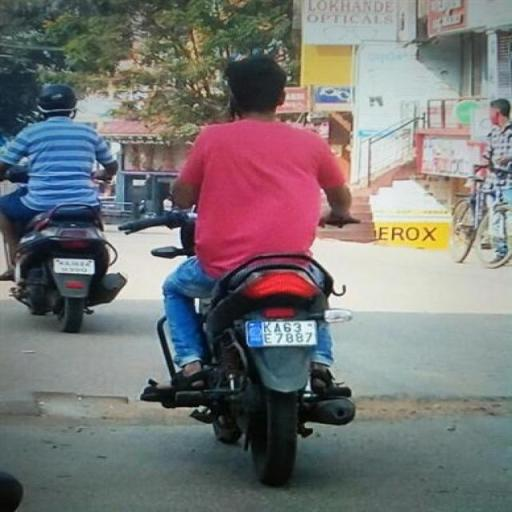numberplate: (244, 320, 316, 348)
using mobile: (215, 89, 244, 122)
